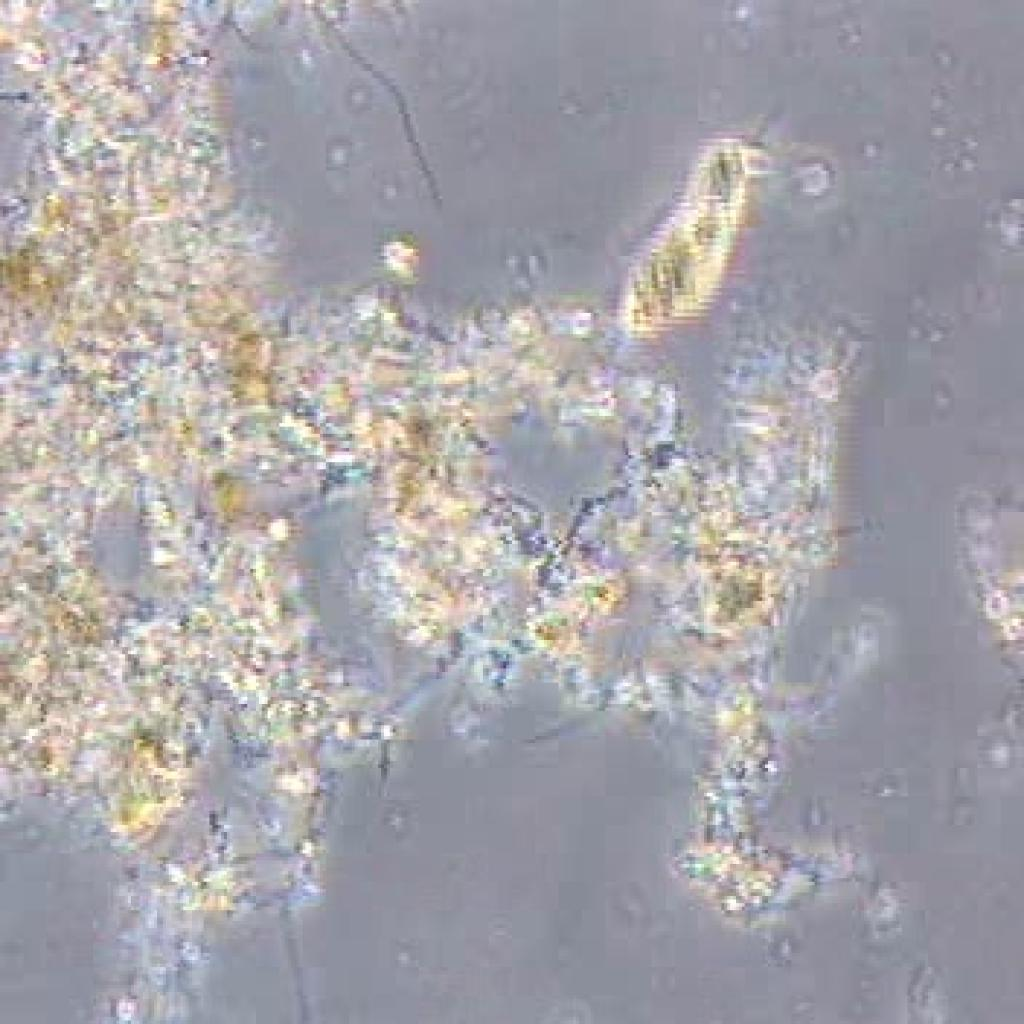Chaetonotus: (611, 122, 765, 340)
